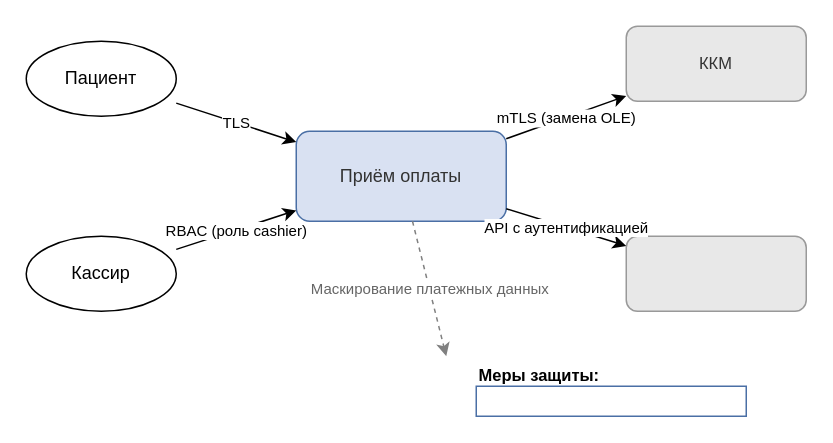
Some shapes in this 833 by 443 pixel diagram are drawn without their labels. The shapes that lost their labels are listed below. From the top down, each one's box as (x1, y1, x2, y2) in pixels, then its label:
(625, 235, 806, 311): 1С:Бухгалтерия
(475, 385, 746, 416): ——— Шифрование / mTLS
